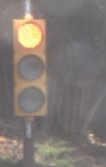Red: (8, 12, 53, 126)
